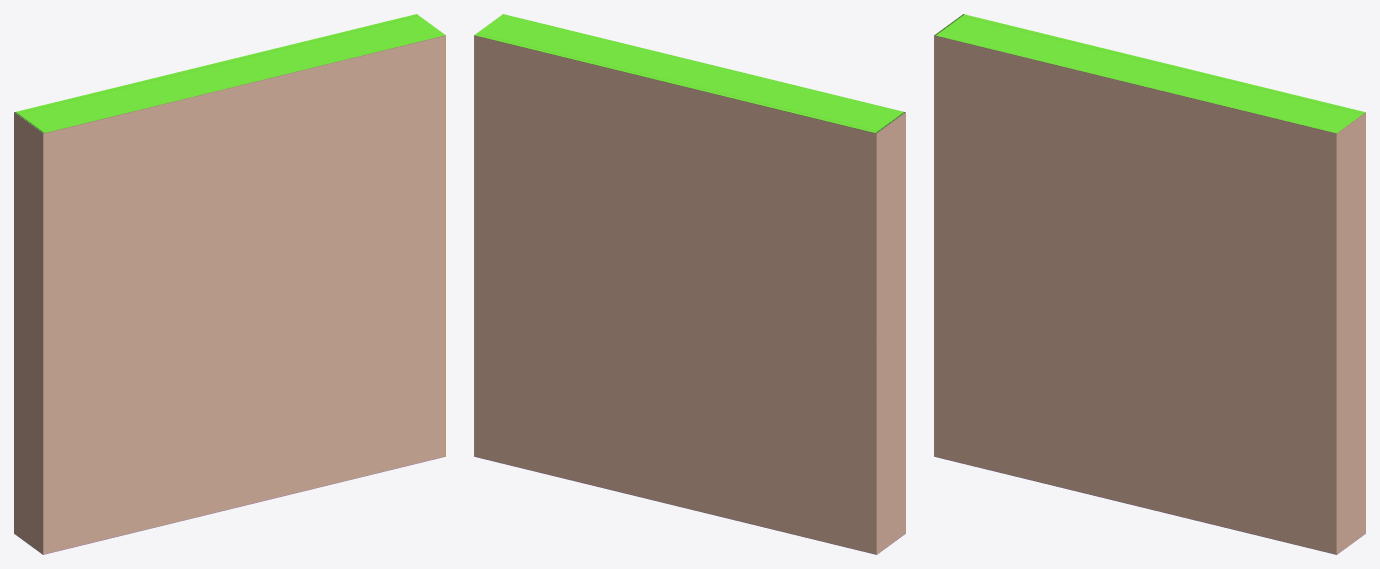
Rendered from MK_MK_Wall_B.fbx.
3 views of the same model, side by side, from view 1: azimuth 30°, elevation 25°; view 2: azimuth 150°, elevation 25°; view 3: azimuth 330°, elevation 25° (orthographic).
Parts seen in each view (by area): view 1: MK_Wall_B; view 2: MK_Wall_B; view 3: MK_Wall_B.
Part boxes in pixels (left/top/right/bottom): MK_Wall_B: left=14, top=14, right=445, bottom=554; MK_Wall_B: left=474, top=14, right=905, bottom=554; MK_Wall_B: left=934, top=14, right=1365, bottom=554.
Bounding box in the file's own units: 180 × 180 × 22.5.
1 material, 1 textured.
